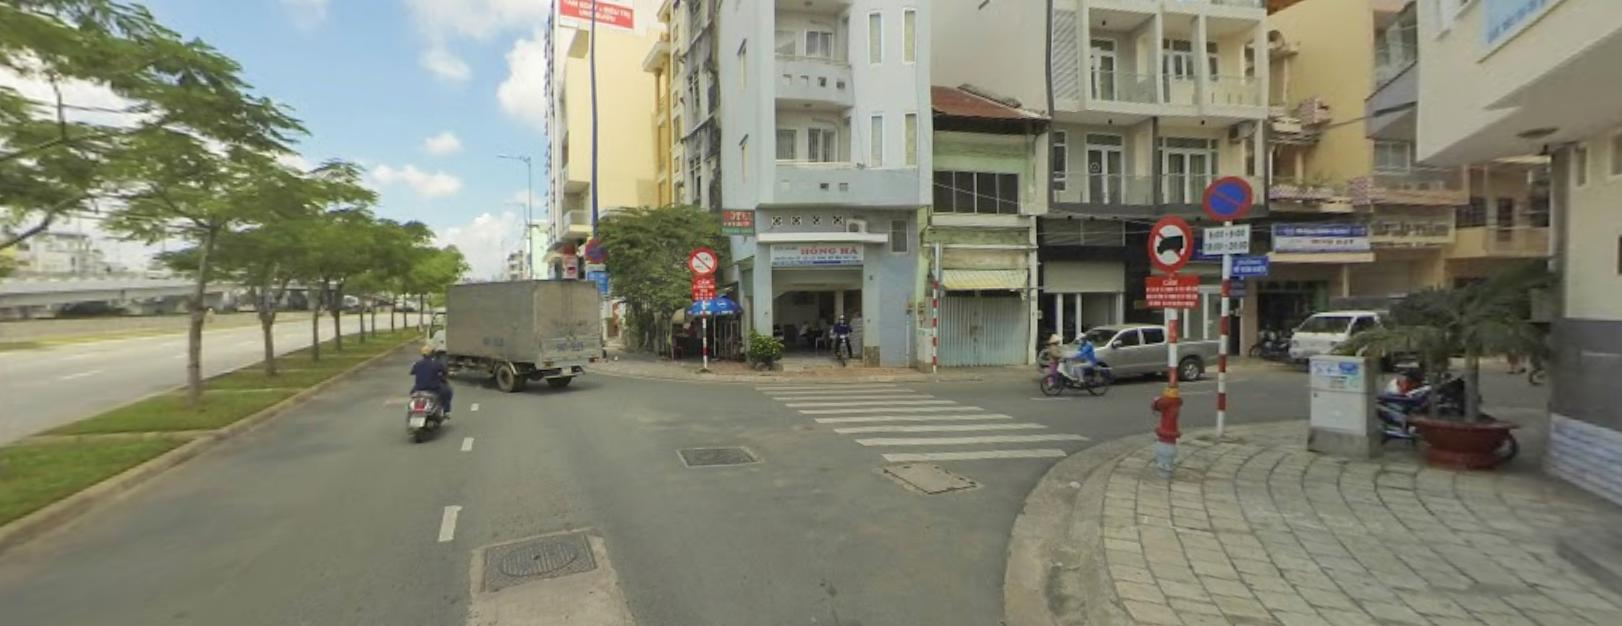Cam con lai: (1147, 211, 1196, 269), (687, 246, 716, 272)
Cam dung va do: (1202, 173, 1256, 220), (583, 237, 611, 263)
